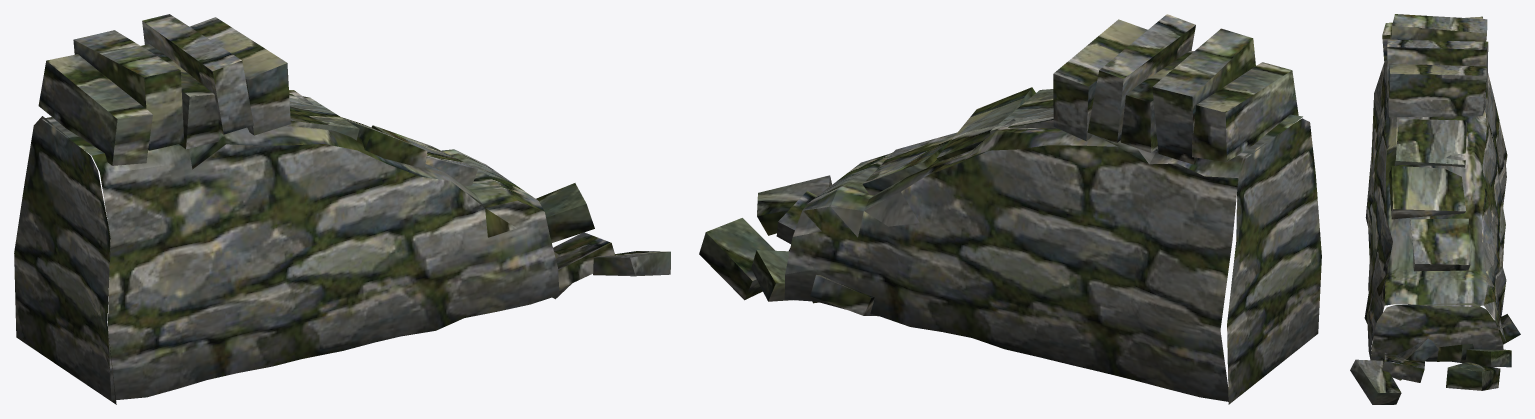
Rendered from wall_drystone_end_broken.glb.
The picture shows the model from 3 angles, left to right: view 1: azimuth 30°, elevation 25°; view 2: azimuth 150°, elevation 25°; view 3: azimuth 270°, elevation 25°; orthographic projection. The views are drawn at different scales.
Visible parts, largest first — view 1: wall_drystone_end_broken; view 2: wall_drystone_end_broken; view 3: wall_drystone_end_broken.
Part boxes in pixels (x1,y1,x2,y2): wall_drystone_end_broken: (14, 14, 670, 404); wall_drystone_end_broken: (699, 14, 1321, 404); wall_drystone_end_broken: (1350, 14, 1520, 404).
Size of the model in its own units: 2.54 by 1.37 by 0.9487.
Materials: 1 (1 with a texture image).
